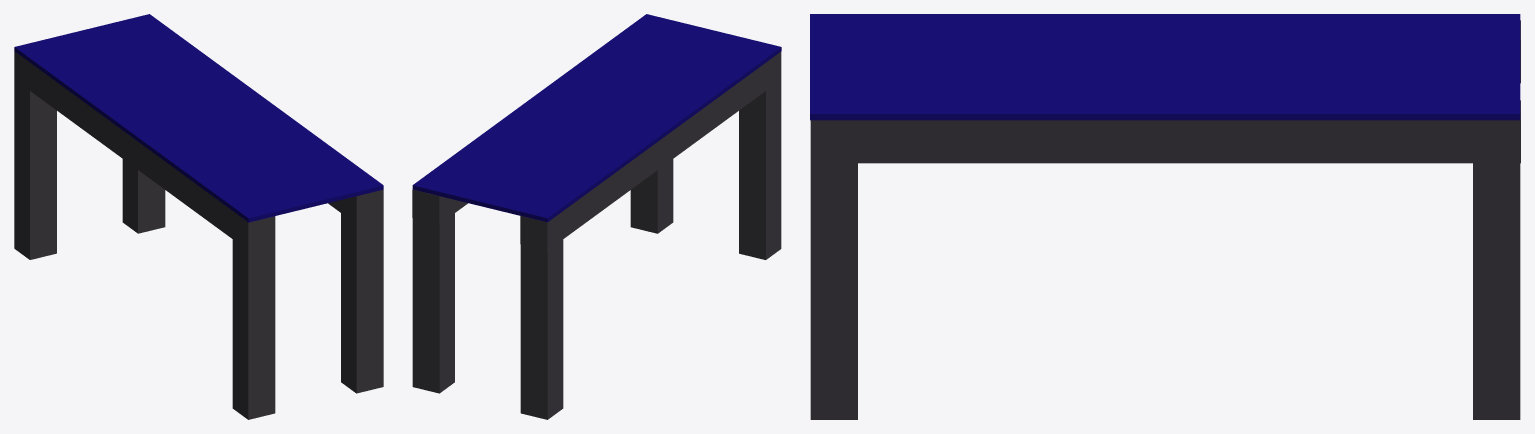
Rendered from table_v3.fbx.
3 renders of one model, left to right at view 1: azimuth 30°, elevation 25°; view 2: azimuth 150°, elevation 25°; view 3: azimuth 270°, elevation 25°, orthographic. The views are drawn at different scales.
Visible parts, largest first — view 1: Cube; view 2: Cube; view 3: Cube.
Boxes of the visible parts, x1,y1,x2,y2 form: Cube: (14, 14, 383, 419); Cube: (412, 14, 781, 419); Cube: (810, 14, 1520, 419).
Bounding box in the file's own units: 100 × 143 × 300.
